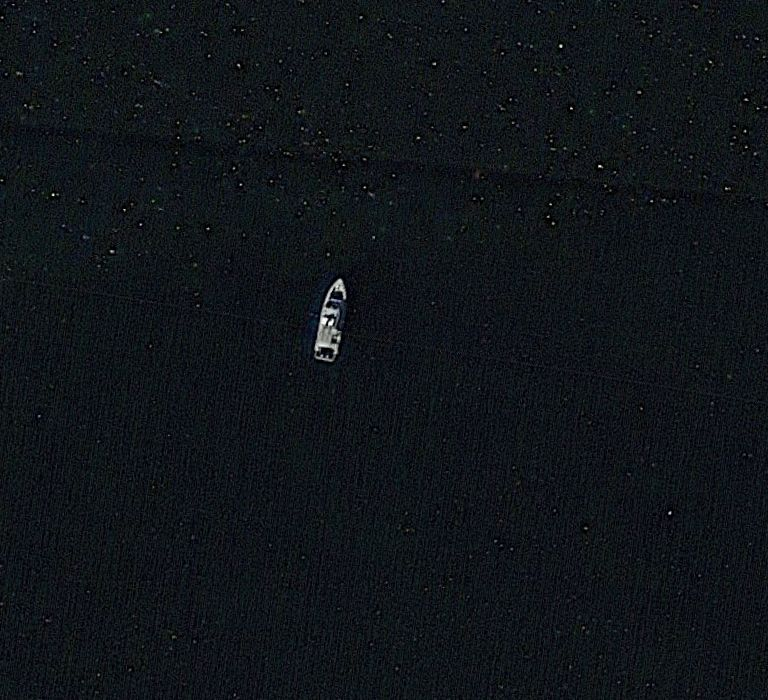boat: (311, 275, 349, 365)
